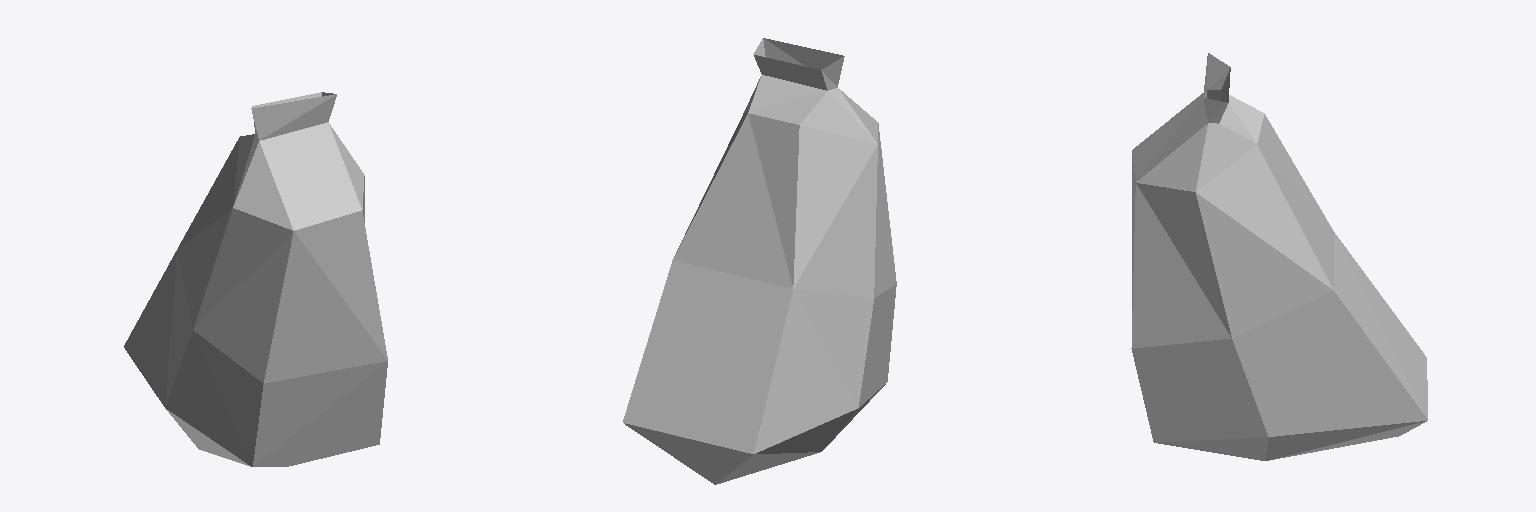
The model's file is pataTras1_abajo_caballoTS.obj.
The picture shows the model from 3 angles: view 1: azimuth 30°, elevation 25°; view 2: azimuth 150°, elevation 25°; view 3: azimuth 270°, elevation 25°; orthographic projection.
Visible parts, largest first — view 1: patatras1_abajo; view 2: patatras1_abajo; view 3: patatras1_abajo.
Part boxes in pixels (x1,y1,x2,y2): patatras1_abajo: (124, 92, 387, 466); patatras1_abajo: (623, 38, 896, 484); patatras1_abajo: (1131, 53, 1427, 460).
Bounding box in the file's own units: 1.4 × 2.71 × 1.99.